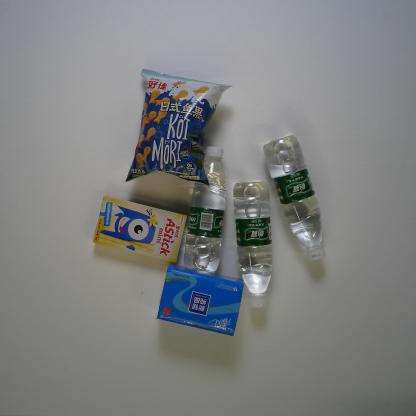Dessert: (90, 194, 193, 267)
Drink: (262, 133, 326, 263), (182, 145, 227, 274), (232, 180, 274, 310)
Puffed Food: (122, 66, 232, 188)
Tissue: (152, 262, 247, 340)
